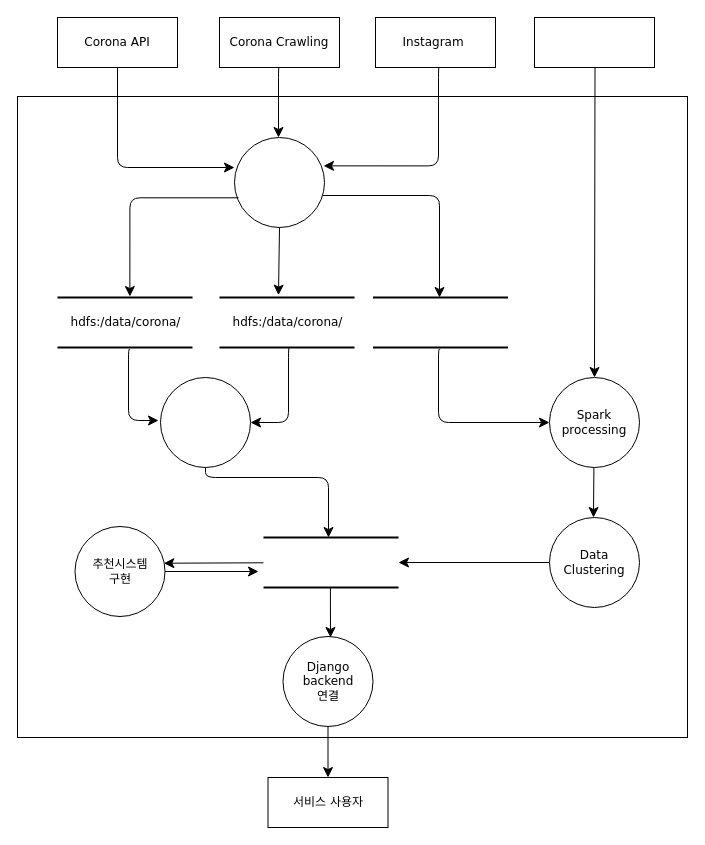
The diagram is 705 pixels wide and 845 high, and some of its shapes have lost their labels. The shapes that lost their labels are listed below. From the top down, each one's centre as x and y in pixels, then its label:
point 594,42: Naver place API
point 279,182: Raw data 적재
point 440,322: hdfs:/data/insta/
point 205,422: Saprk processing
point 330,562: Mongodb
